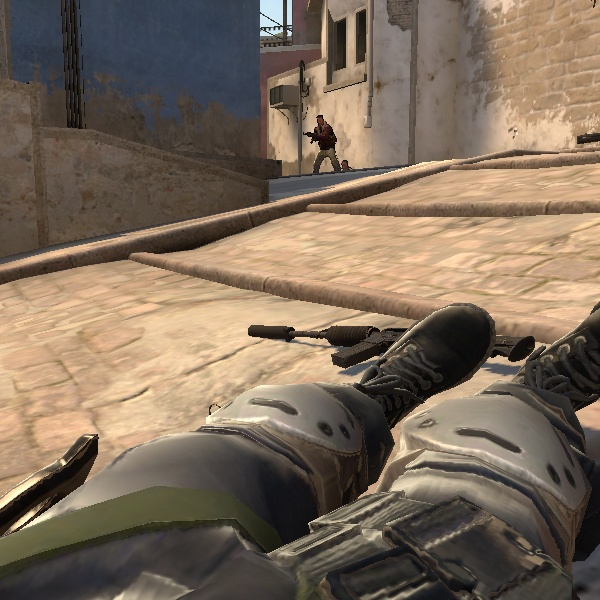t_body: (300, 110, 344, 175)
t_head: (312, 113, 329, 131)
